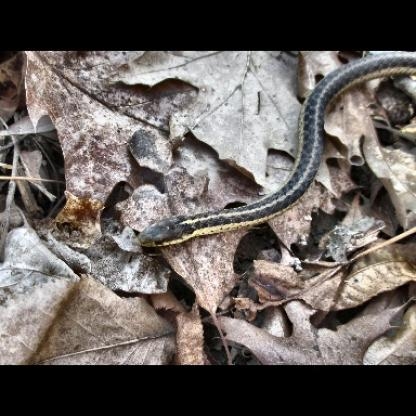Snake: (140, 55, 398, 250)
